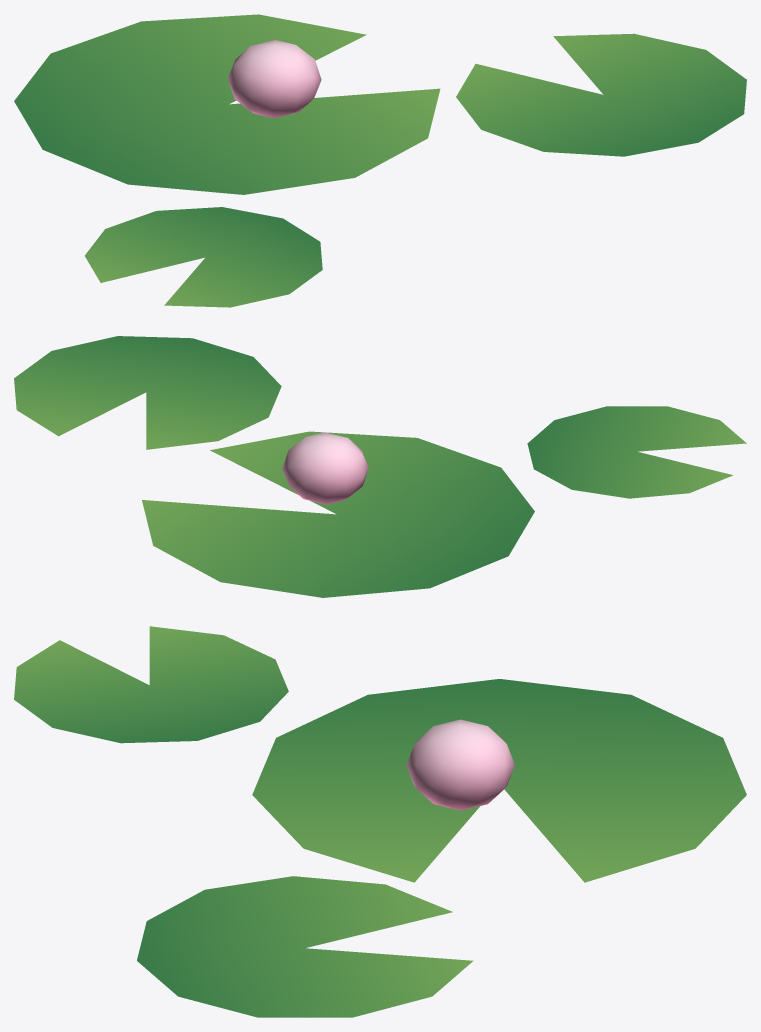
The model's file is lilypads.glb.
3 views of the same model, one above another, from view 1: azimuth 30°, elevation 25°; view 2: azimuth 150°, elevation 25°; view 3: azimuth 270°, elevation 25° (orthographic). The views are drawn at different scales.
Visible parts, largest first — view 1: lilypads; view 2: lilypads; view 3: lilypads.
Part boxes in pixels (bbox=[...]): lilypads: bbox=[14, 14, 746, 307]; lilypads: bbox=[14, 336, 746, 597]; lilypads: bbox=[14, 626, 746, 1017].
Size of the model in its own units: 1.19 by 0.112 by 0.9429.
